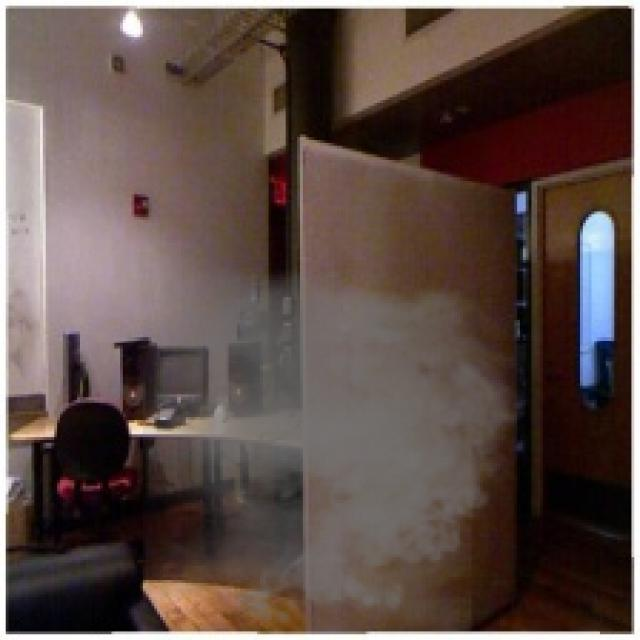Smoke: (142, 266, 538, 634)
